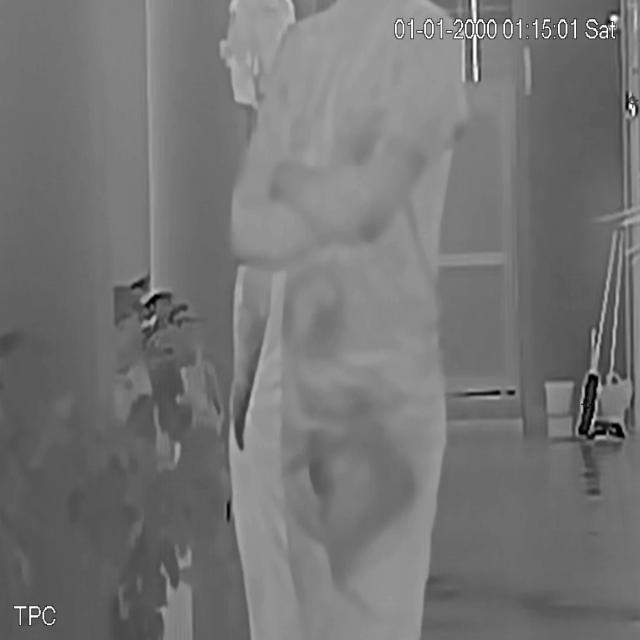Weapon: (326, 441, 440, 587)
